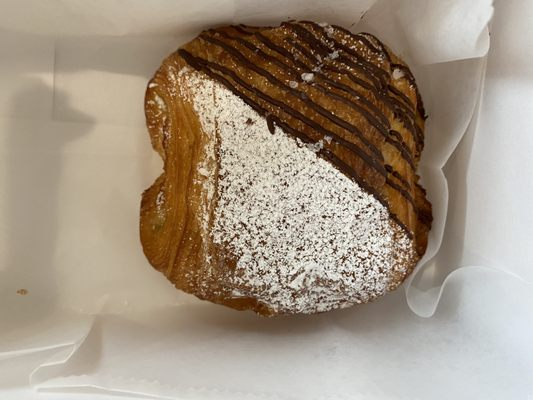sushi: (139, 20, 431, 326)
